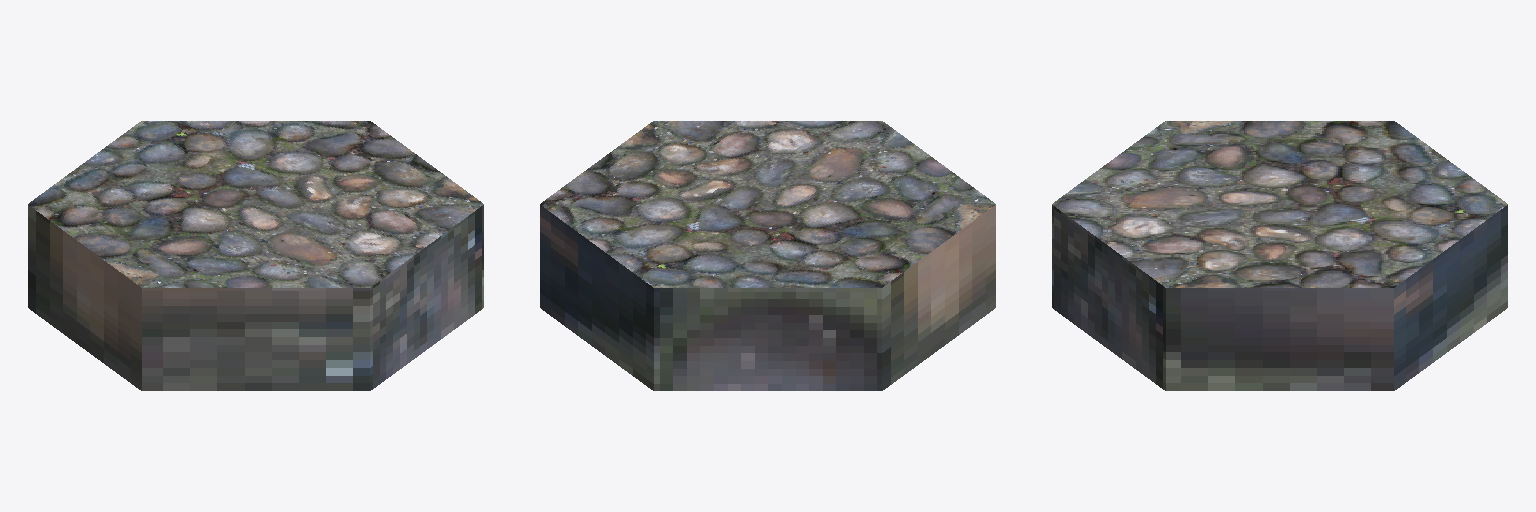
3 views of the same model, side by side, from view 1: azimuth 30°, elevation 25°; view 2: azimuth 150°, elevation 25°; view 3: azimuth 270°, elevation 25° (orthographic).
Parts seen in each view (by area): view 1: Cylinder_Cylinder.001; view 2: Cylinder_Cylinder.001; view 3: Cylinder_Cylinder.001.
Boxes of the visible parts, x1,y1,x2,y2 form: Cylinder_Cylinder.001: [28, 121, 483, 390]; Cylinder_Cylinder.001: [540, 121, 995, 390]; Cylinder_Cylinder.001: [1052, 121, 1507, 390].
Size of the model in its own units: 1.73 by 0.5 by 2.
Materials: 1 (1 with a texture image).